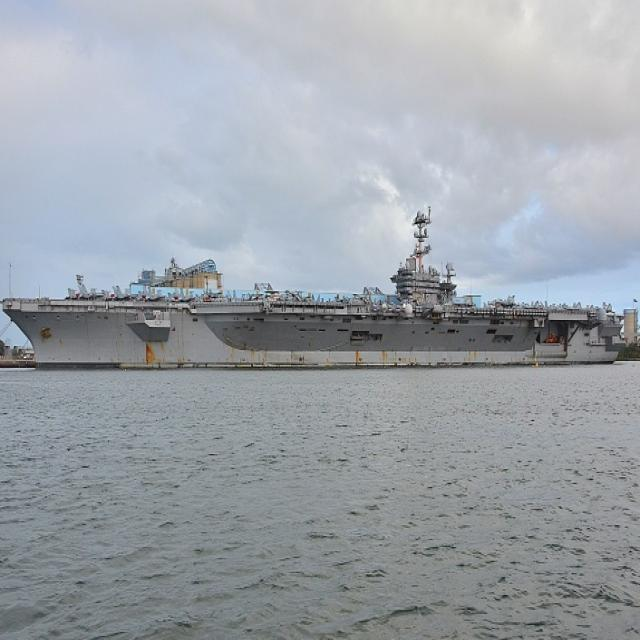Portanaves: (1, 198, 635, 377)
